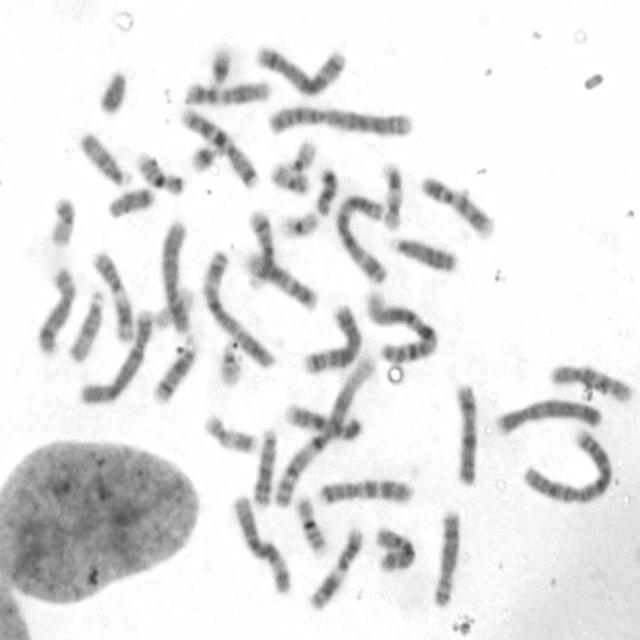A1: (273, 347, 375, 510), (365, 287, 439, 364)
A2: (521, 429, 612, 505), (267, 105, 415, 140)
A3: (201, 248, 279, 371), (334, 192, 388, 285)
B4: (78, 308, 154, 407), (491, 398, 606, 436)
B5: (256, 42, 351, 98), (302, 302, 364, 375)
C10: (549, 363, 634, 403), (373, 523, 420, 576)
C11: (308, 526, 366, 613), (92, 249, 134, 345)
C12: (244, 248, 319, 315), (180, 80, 272, 106)
C6: (230, 495, 296, 597), (160, 221, 192, 333)
C7: (179, 104, 262, 192), (317, 477, 416, 506)
C8: (36, 267, 76, 355), (432, 508, 461, 609)
C9: (416, 173, 495, 239), (282, 402, 362, 442)
D13: (388, 233, 458, 275), (252, 430, 280, 510)
D14: (151, 331, 199, 407), (242, 211, 276, 293)
D15: (76, 130, 134, 188), (68, 289, 106, 365)
E16: (134, 149, 186, 196), (295, 498, 329, 556)
E17: (201, 410, 258, 458), (382, 162, 404, 232)
E18: (106, 185, 158, 222), (316, 165, 338, 218)
F19: (153, 286, 196, 330), (278, 211, 320, 241)
F20: (48, 197, 78, 250), (269, 161, 312, 197)
G21: (188, 143, 224, 177), (209, 48, 233, 92)
G22: (218, 342, 242, 387), (288, 140, 318, 176)
X: (454, 380, 480, 488)
Y: (98, 69, 128, 116)
